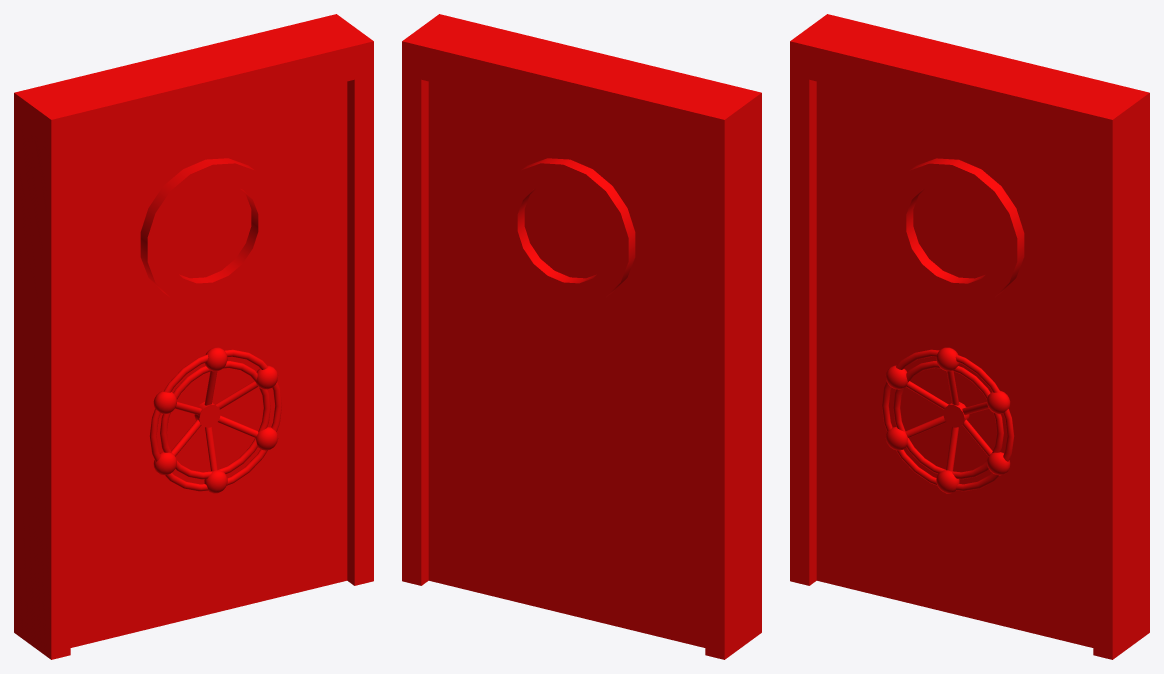
Rendered from door_01.FBX.
3 views of the same model, side by side, from view 1: azimuth 30°, elevation 25°; view 2: azimuth 150°, elevation 25°; view 3: azimuth 330°, elevation 25° (orthographic).
Visible parts, largest first — view 1: Box002; view 2: Box002; view 3: Box002.
Part boxes in pixels (left/top/right/bottom): Box002: left=14, top=14, right=373, bottom=659; Box002: left=402, top=14, right=761, bottom=659; Box002: left=790, top=14, right=1149, bottom=659.
Size of the model in its own units: 50 by 80 by 12.17.
